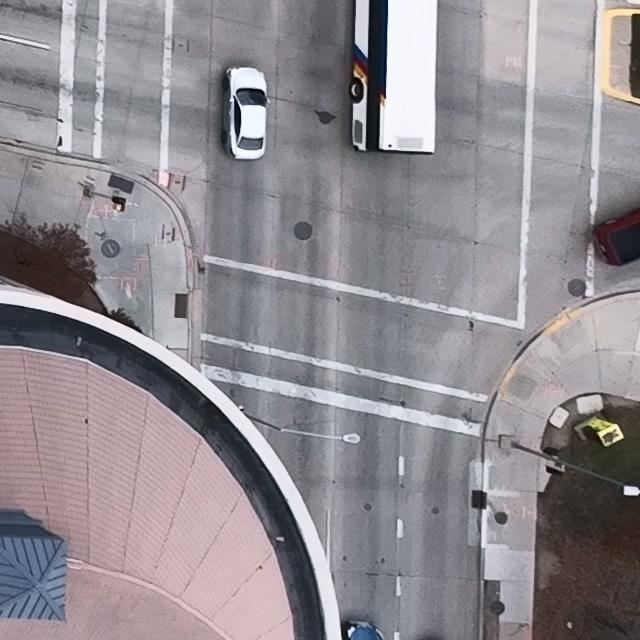car: (349, 0, 437, 155), (222, 67, 270, 161)
